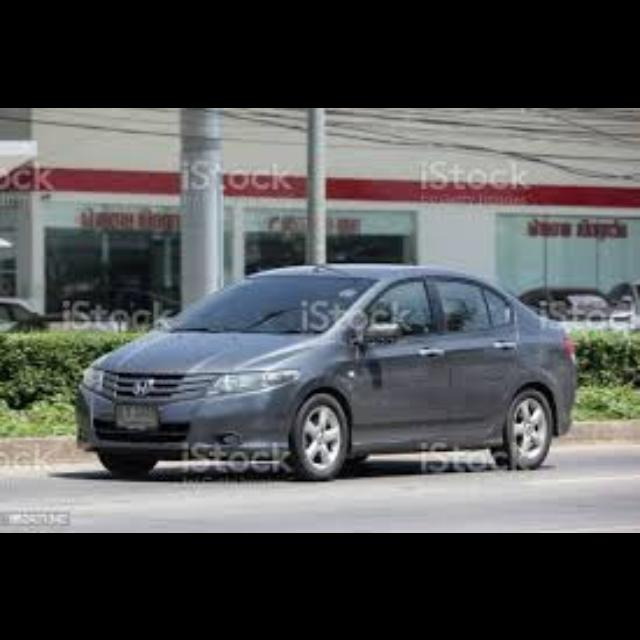vehicles: (46, 256, 598, 484)
